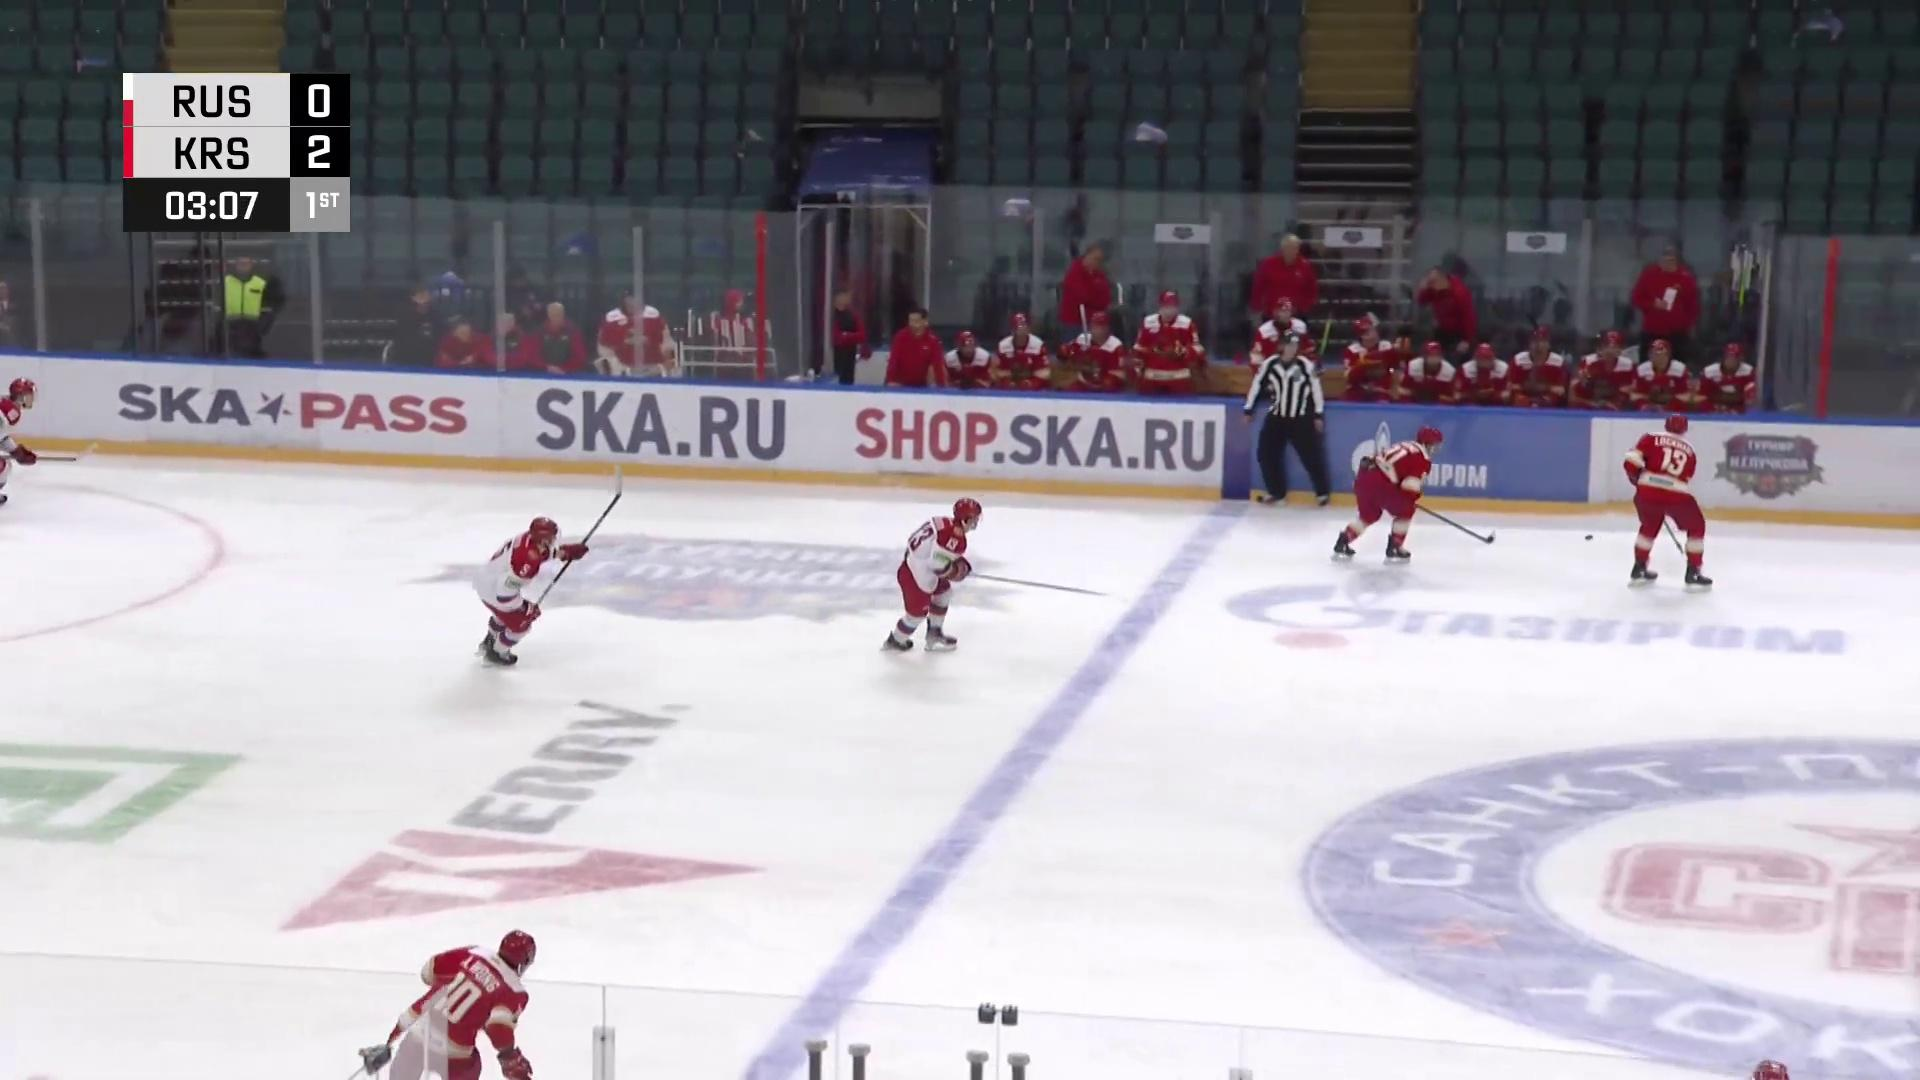ball: (1582, 533, 1596, 542)
